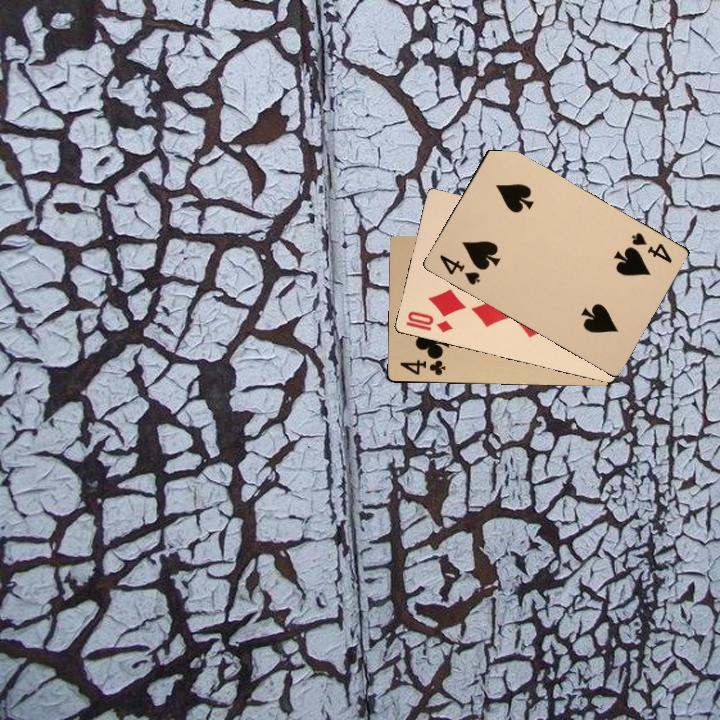10d: (402, 307, 455, 335)
4c: (396, 353, 448, 378)
4s: (435, 251, 483, 288), (627, 228, 675, 265)
